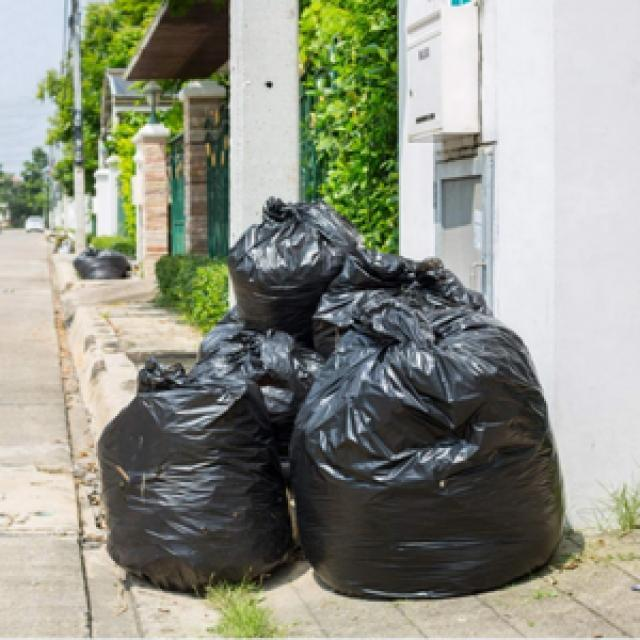high trash: (99, 199, 564, 597)
